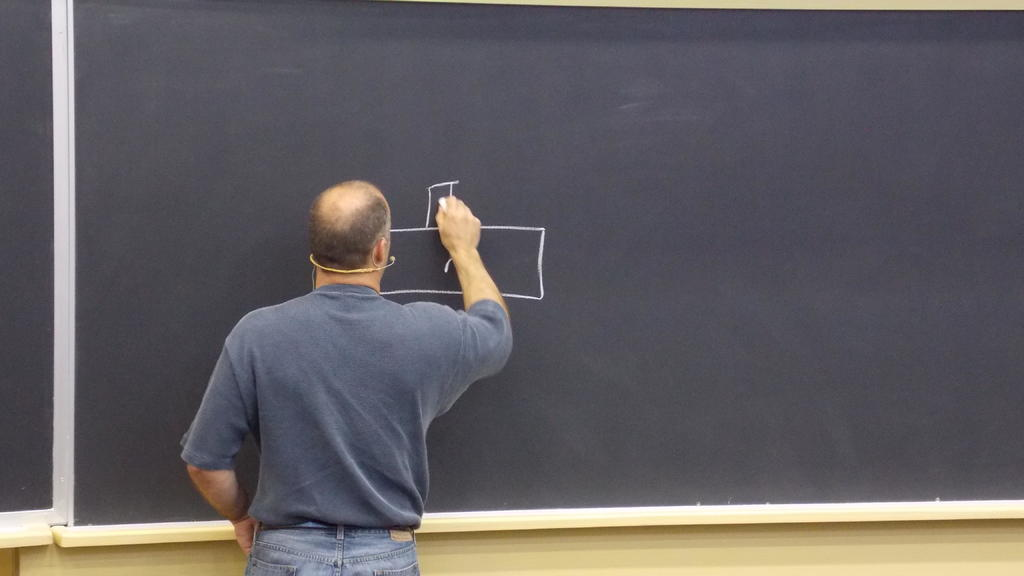Human_hand: (428, 193, 486, 256), (230, 505, 261, 557)
